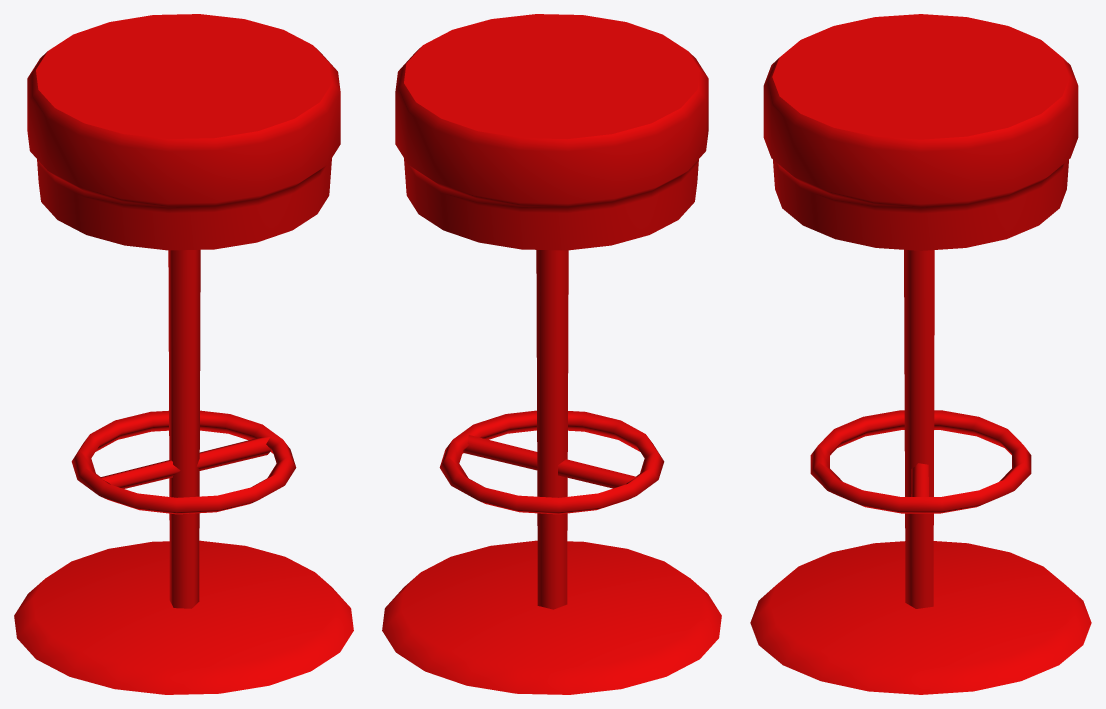
Rendered from Stool_01_Lod1.fbx.
The picture shows the model from 3 angles, left to right: view 1: azimuth 30°, elevation 25°; view 2: azimuth 150°, elevation 25°; view 3: azimuth 270°, elevation 25°; orthographic projection.
Visible parts, largest first — view 1: Stool_01_Lod1; view 2: Stool_01_Lod1; view 3: Stool_01_Lod1.
Part boxes in pixels (x1,y1,x2,y2): Stool_01_Lod1: [14, 14, 353, 694]; Stool_01_Lod1: [382, 14, 721, 694]; Stool_01_Lod1: [750, 14, 1091, 694].
Bounding box in the file's own units: 45.98 × 81.16 × 45.98.
